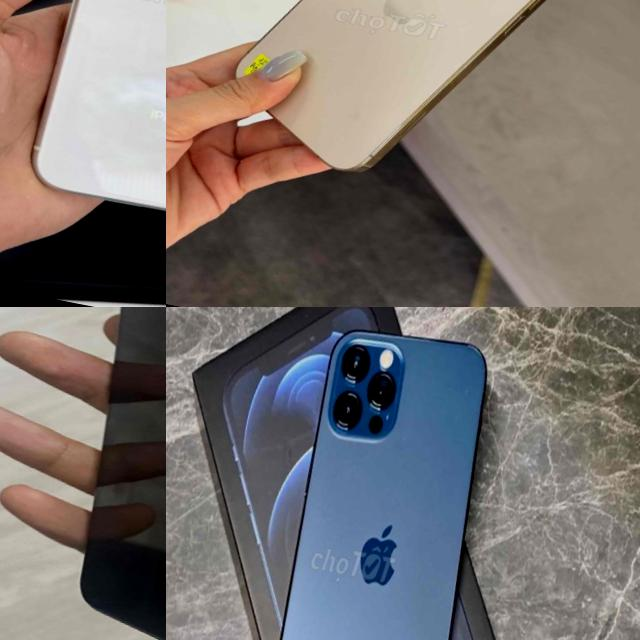gen_11: (39, 307, 166, 640)
gen_12_13: (234, 312, 525, 640), (209, 0, 615, 222)
gen_x_xs: (23, 0, 166, 237)
